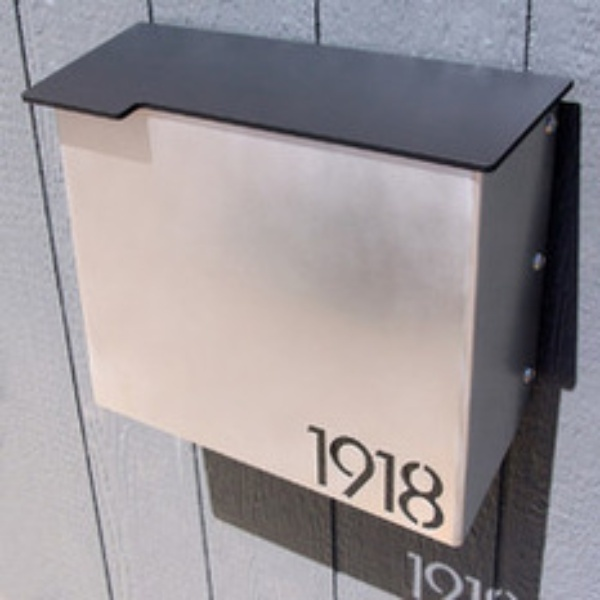text: (305, 423, 320, 539), (321, 423, 336, 539), (337, 423, 352, 539), (353, 423, 368, 539), (369, 423, 384, 539), (385, 423, 400, 539), (401, 423, 416, 539), (417, 423, 432, 539), (433, 423, 446, 539), (433, 557, 448, 600), (449, 557, 464, 600), (405, 549, 416, 600), (417, 549, 425, 600), (425, 557, 432, 600), (465, 557, 467, 600)
